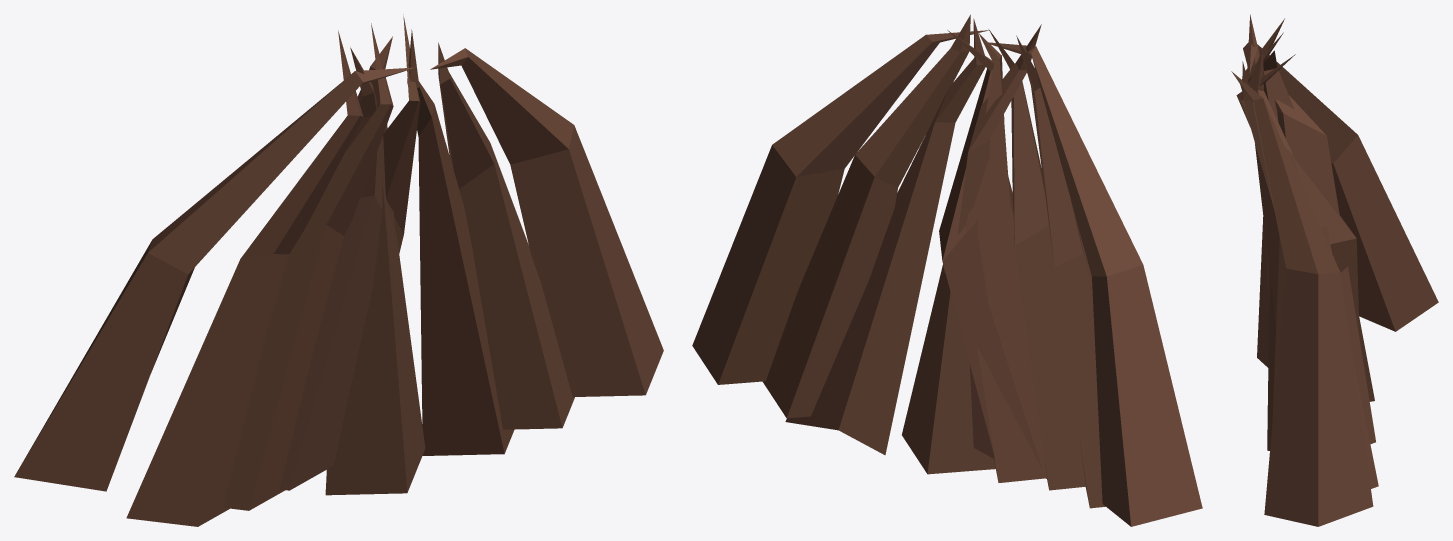
The model's file is vines2.glb.
3 views of the same model, side by side, from view 1: azimuth 30°, elevation 25°; view 2: azimuth 150°, elevation 25°; view 3: azimuth 270°, elevation 25° (orthographic). The views are drawn at different scales.
Parts seen in each view (by area): view 1: Vines; view 2: Vines; view 3: Vines.
Part boxes in pixels (x1,y1,x2,y2): Vines: [14, 14, 663, 526]; Vines: [692, 14, 1202, 526]; Vines: [1231, 14, 1438, 526].
Size of the model in its own units: 5.89 by 4.4 by 2.
